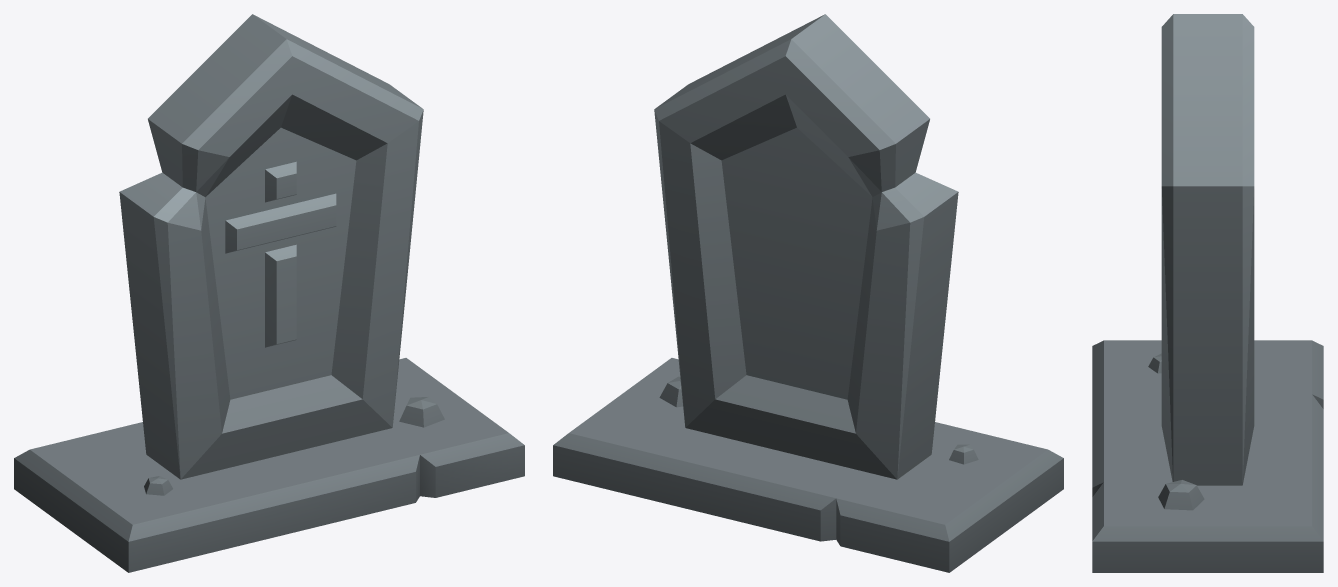
The model's file is grave_B.obj.
3 renders of one model, left to right at view 1: azimuth 30°, elevation 25°; view 2: azimuth 150°, elevation 25°; view 3: azimuth 270°, elevation 25°, orthographic.
Parts seen in each view (by area): view 1: grave_B_Cube.109; view 2: grave_B_Cube.109; view 3: grave_B_Cube.109.
Part boxes in pixels (box(x1,y1,x2,y2)): grave_B_Cube.109: box(14, 14, 524, 572); grave_B_Cube.109: box(553, 14, 1063, 572); grave_B_Cube.109: box(1092, 14, 1323, 572).
Bounding box in the file's own units: 2 × 2.2 × 1.
Materials: 1 (1 with a texture image).
